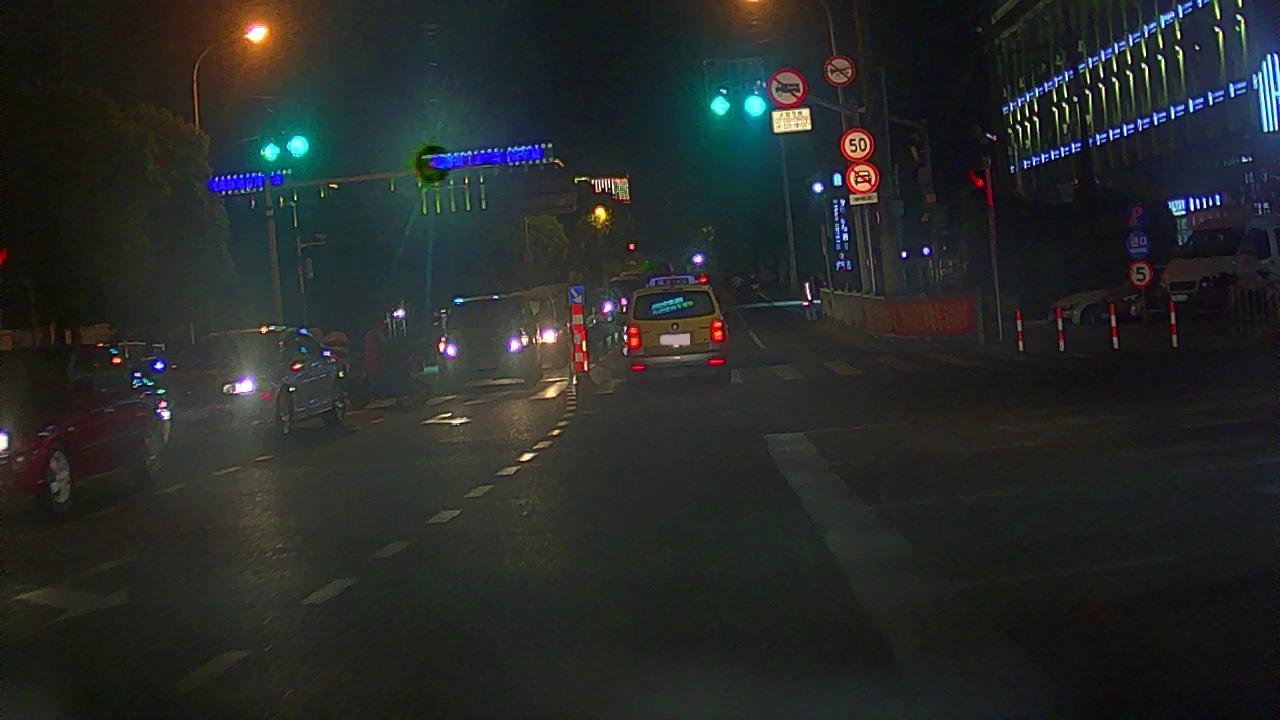traffic_light: (740, 62, 769, 121), (704, 63, 733, 119), (284, 131, 314, 163), (258, 139, 282, 166)
